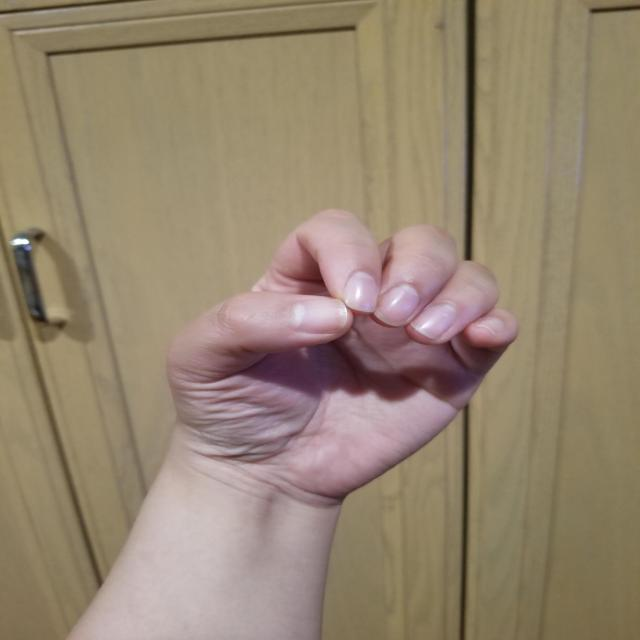O: (156, 204, 524, 501)
